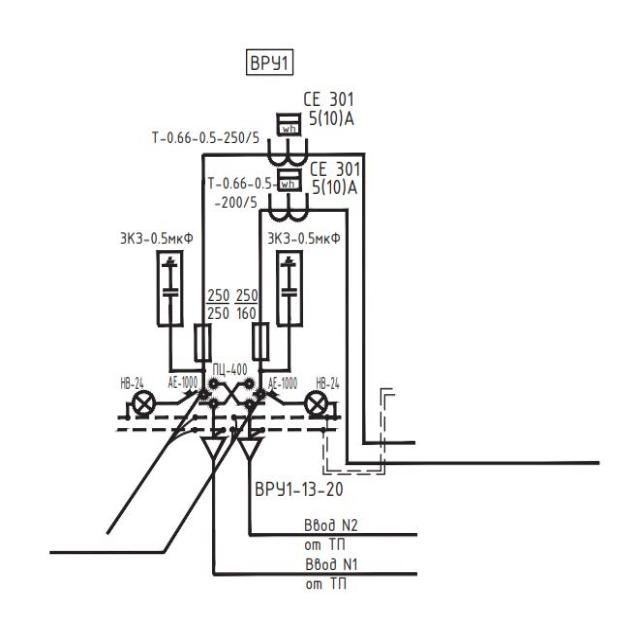-: (207, 172, 271, 210), (253, 478, 348, 503), (300, 88, 355, 129), (308, 159, 362, 197), (151, 127, 260, 144), (232, 284, 258, 320), (206, 284, 231, 320), (211, 362, 249, 378), (167, 374, 200, 390), (268, 374, 298, 390), (118, 375, 144, 392), (314, 374, 340, 391)
FU: (192, 321, 215, 364), (251, 319, 274, 362)
HL: (131, 388, 157, 416), (302, 388, 328, 416)
QF: (263, 387, 287, 410), (176, 389, 202, 406)
TT: (265, 134, 311, 167), (266, 190, 312, 222)
WH: (274, 109, 304, 138), (276, 165, 304, 193)
switch: (194, 376, 221, 408), (240, 374, 266, 406)
